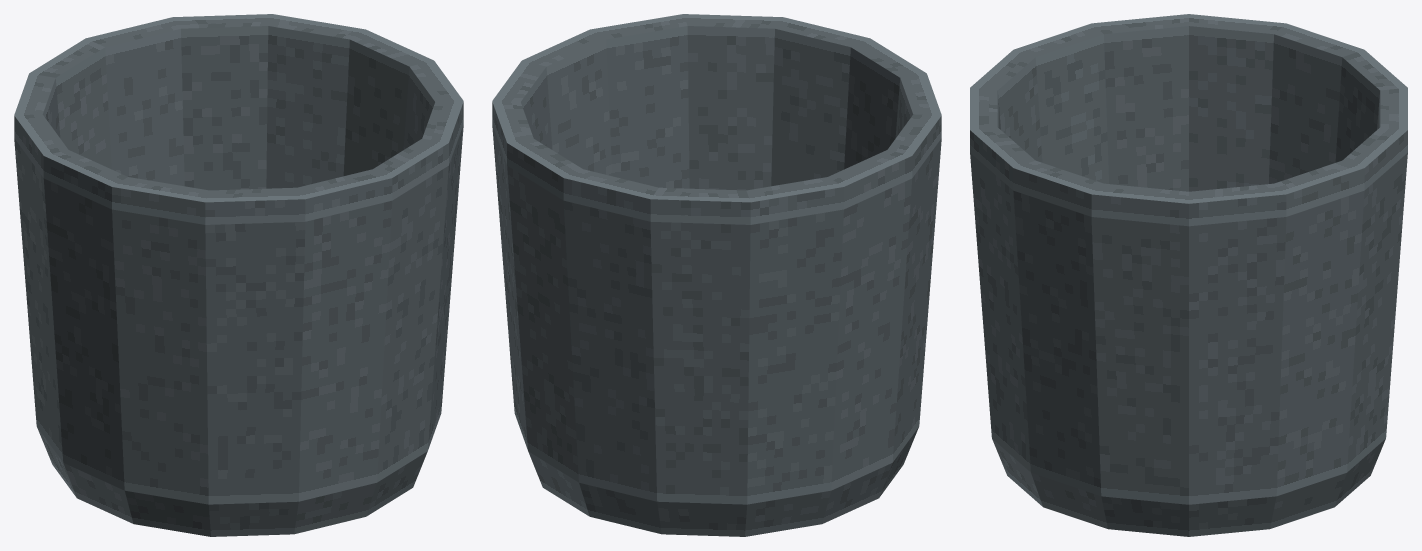
The model's file is crucible.glb.
3 renders of one model, left to right at view 1: azimuth 30°, elevation 25°; view 2: azimuth 150°, elevation 25°; view 3: azimuth 270°, elevation 25°, orthographic.
Parts seen in each view (by area): view 1: block_tapered refractory crucible; view 2: block_tapered refractory crucible; view 3: block_tapered refractory crucible.
Boxes of the visible parts, bbox=[...] form: block_tapered refractory crucible: bbox=[14, 14, 463, 536]; block_tapered refractory crucible: bbox=[492, 14, 941, 536]; block_tapered refractory crucible: bbox=[970, 14, 1407, 536].
Size of the model in its own units: 0.2406 by 0.2064 by 0.2346.
Materials: 1 (1 with a texture image).
